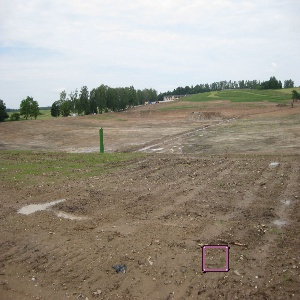square: (201, 244, 230, 273)
